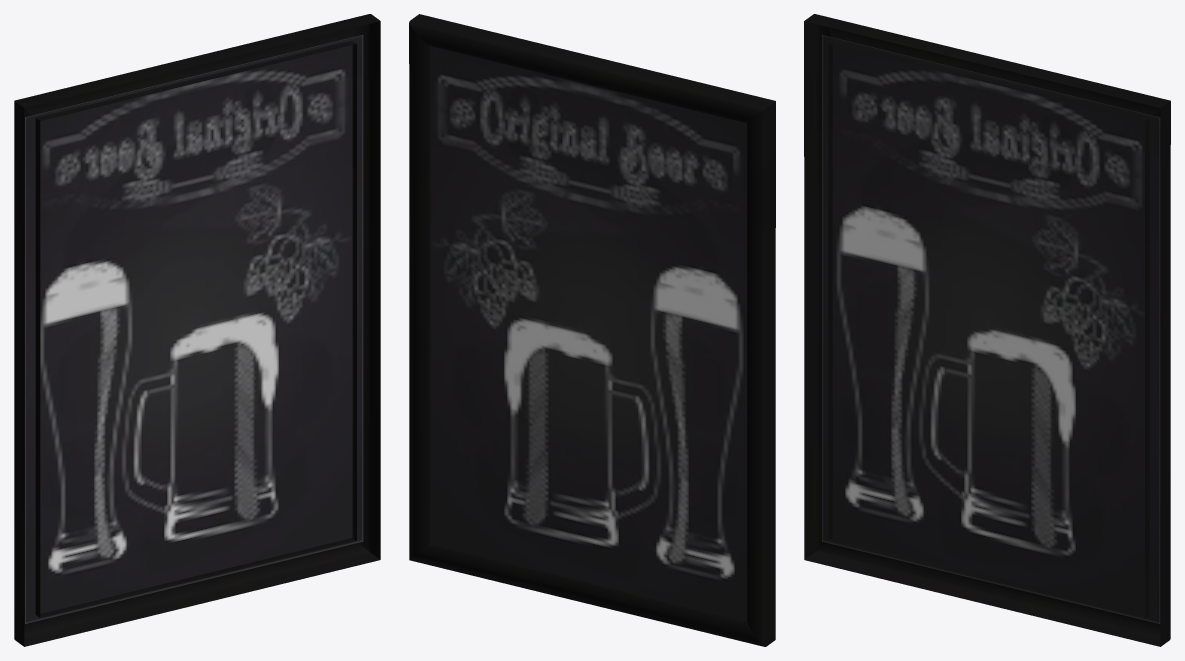
The model's file is Prop_Canvas_x3.fbx.
3 renders of one model, left to right at view 1: azimuth 30°, elevation 25°; view 2: azimuth 150°, elevation 25°; view 3: azimuth 330°, elevation 25°, orthographic.
Parts seen in each view (by area): view 1: Prop_Canvas_x3; view 2: Prop_Canvas_x3; view 3: Prop_Canvas_x3.
Boxes of the visible parts, x1,y1,x2,y2 form: Prop_Canvas_x3: (14, 14, 380, 646); Prop_Canvas_x3: (409, 14, 775, 646); Prop_Canvas_x3: (804, 14, 1170, 646).
Bounding box in the file's own units: 30.72 × 44.37 × 1.74.
